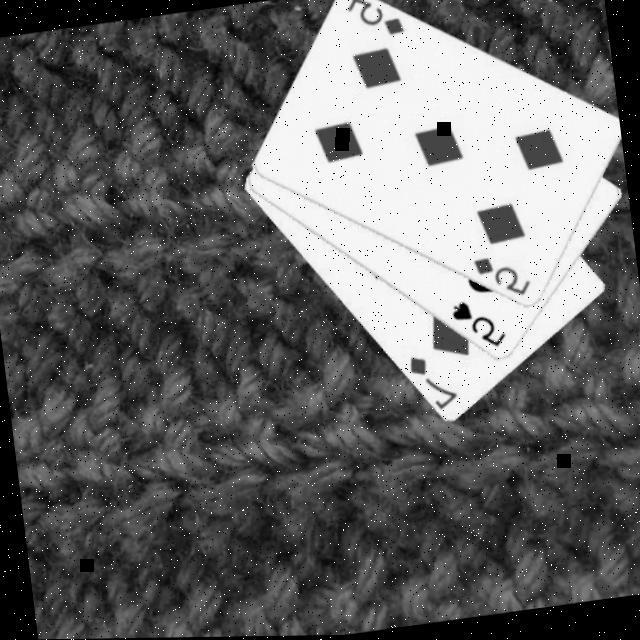5D: (467, 248, 533, 306), (340, 0, 407, 45)
5S: (444, 293, 507, 357)
7D: (402, 348, 460, 416)
